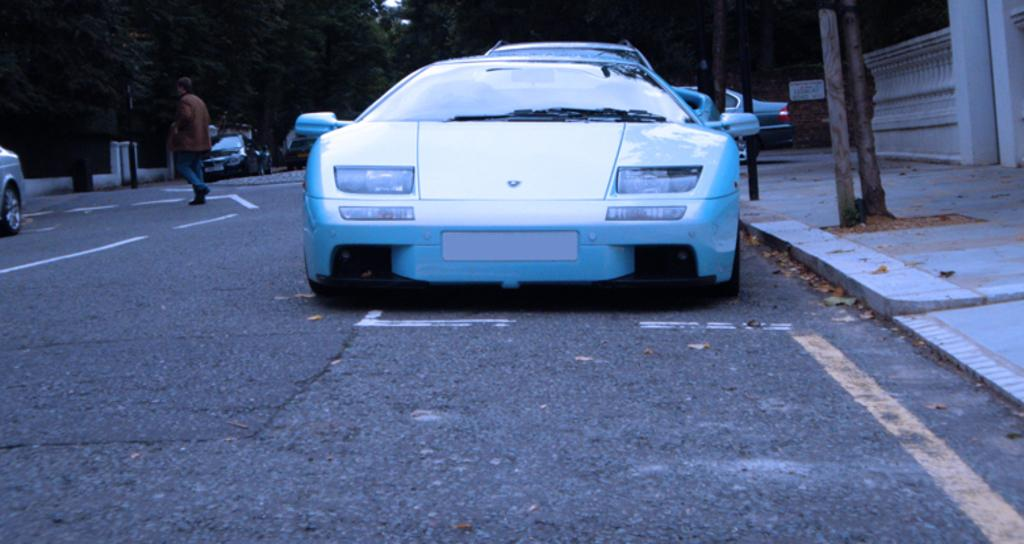Car: (283, 43, 737, 300), (719, 87, 797, 142), (0, 141, 29, 223), (208, 135, 273, 171)
